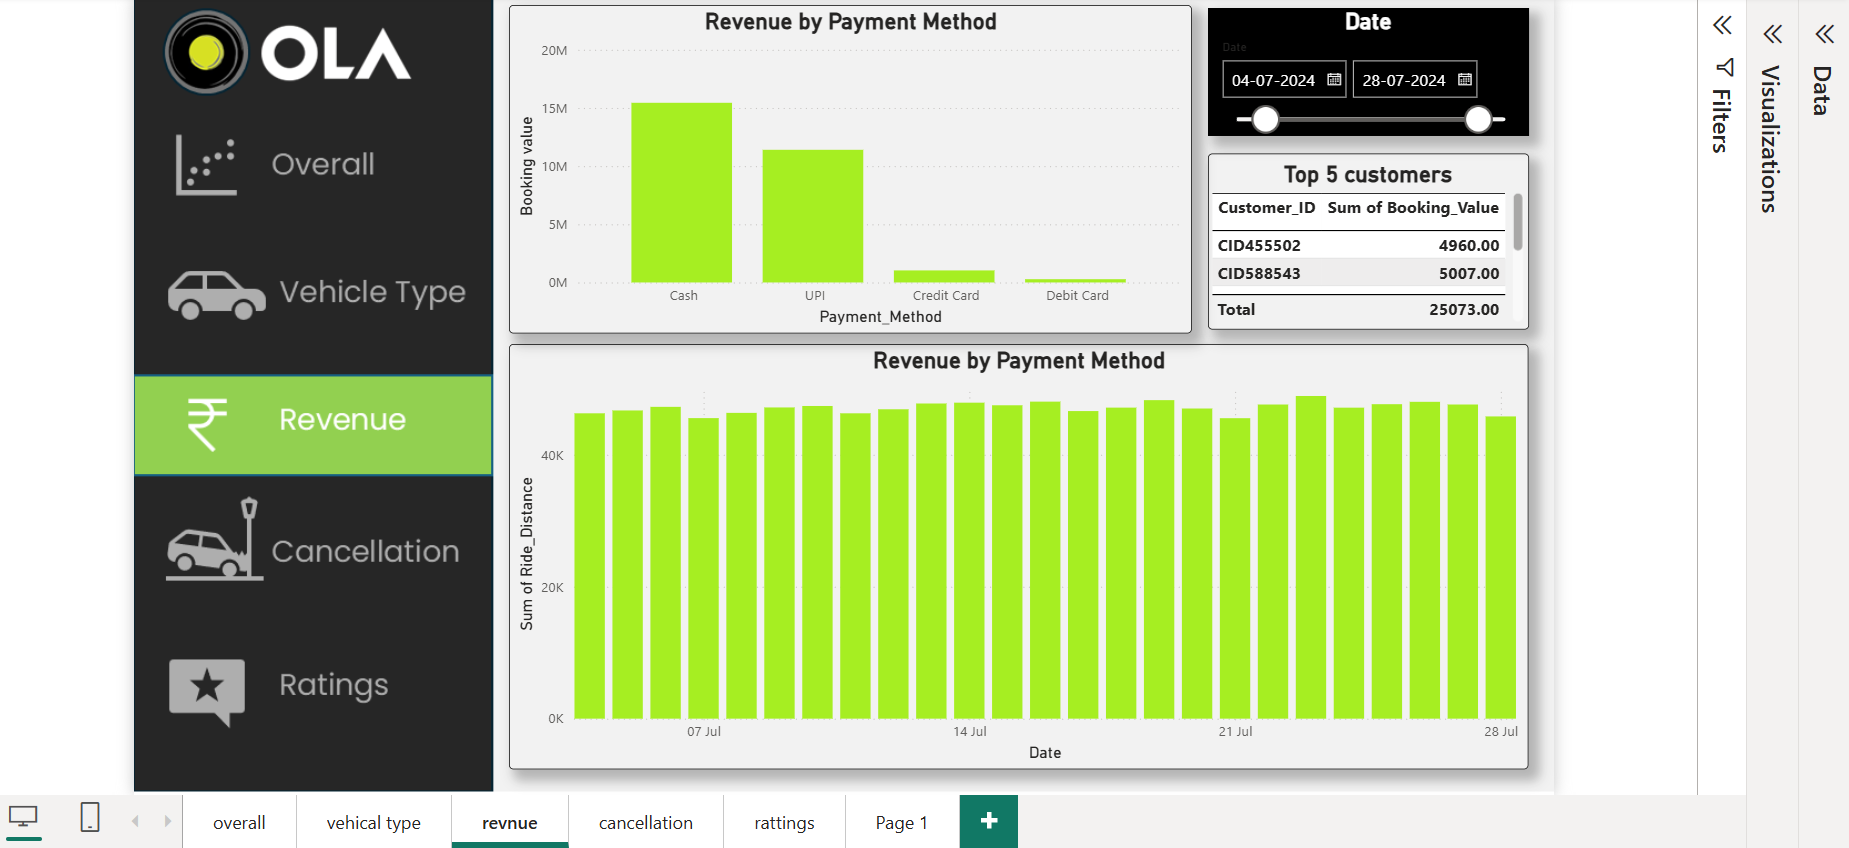

This screenshot's page, from the dashboard's own definition file:
{"tool":"powerbi","page":{"name":"revnue","canvas":[1280,720],"ordinal":2},"visuals":[{"type":"actionButton","box":[0,108.1,320.4,93.3],"z":0},{"type":"actionButton","box":[0,221.7,320.4,93.3],"z":1000},{"type":"actionButton","box":[0,336.6,320.4,93.3],"z":2000},{"type":"actionButton","box":[0,451.5,320.4,93.3],"z":3000},{"type":"actionButton","box":[0,577.2,320.4,93.3],"z":4000},{"type":"columnChart","title":"Revenue by Payment Method","fields":{"Y":["Sum(July.Booking_Value)"],"Category":["July.Payment_Method"]},"box":[337.9,8.1,615,296],"z":5000},{"type":"columnChart","title":"Revenue by Payment Method","fields":{"Y":["Sum(July.Ride_Distance)"],"Category":["July.Date"]},"box":[338.3,313.7,918.4,383.6],"z":6000},{"type":"slicer","title":"Date","fields":{"Values":["July.Date"]},"box":[967.6,11.3,289.1,115.3],"z":7000},{"type":"tableEx","title":"Top 5 customers","fields":{"Values":["July.Customer_ID","Sum(July.Booking_Value)"]},"box":[967.6,141.7,289.1,158.7],"z":8000}]}

Visuals, with their boxes on the page's 1280x720 design canvas (x1, y1, x2, y2). These are canvas units, not pixel positions in the 1849x848 screenshot, which may show the page scaled, cropped or inside an application window:
actionButton: x1=0, y1=108, x2=320, y2=201
actionButton: x1=0, y1=222, x2=320, y2=315
actionButton: x1=0, y1=337, x2=320, y2=430
actionButton: x1=0, y1=452, x2=320, y2=545
actionButton: x1=0, y1=577, x2=320, y2=670
"Revenue by Payment Method" columnChart: x1=338, y1=8, x2=953, y2=304
"Revenue by Payment Method" columnChart: x1=338, y1=314, x2=1257, y2=697
"Date" slicer: x1=968, y1=11, x2=1257, y2=127
"Top 5 customers" tableEx: x1=968, y1=142, x2=1257, y2=300
